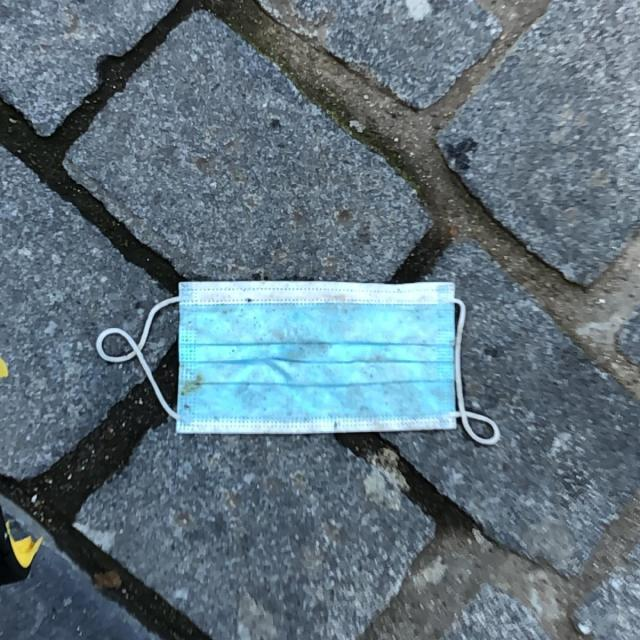Mask: (94, 276, 502, 447)
